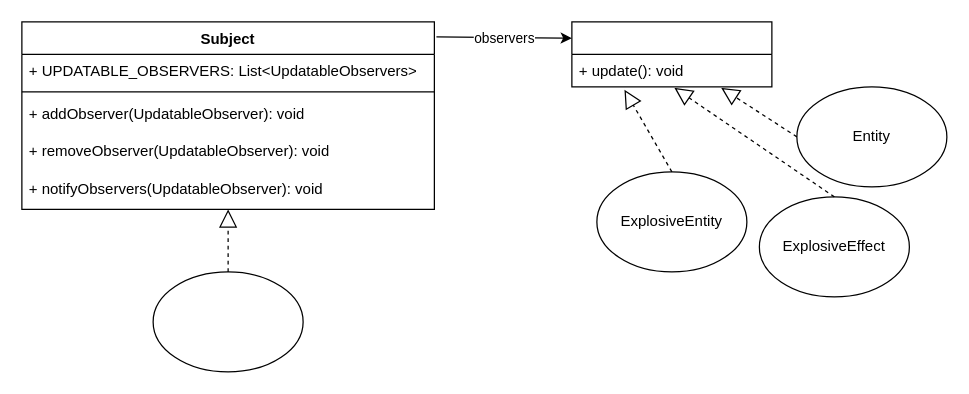
Some shapes in this 969 by 394 pixel diagram are drawn without their labels. The shapes that lost their labels are listed below. From the top down, each one's box as (x1, y1, x2, y2) in pixels, then its label:
(571, 21, 772, 87): UpdatableObserver
(152, 271, 303, 372): GamePanel class
